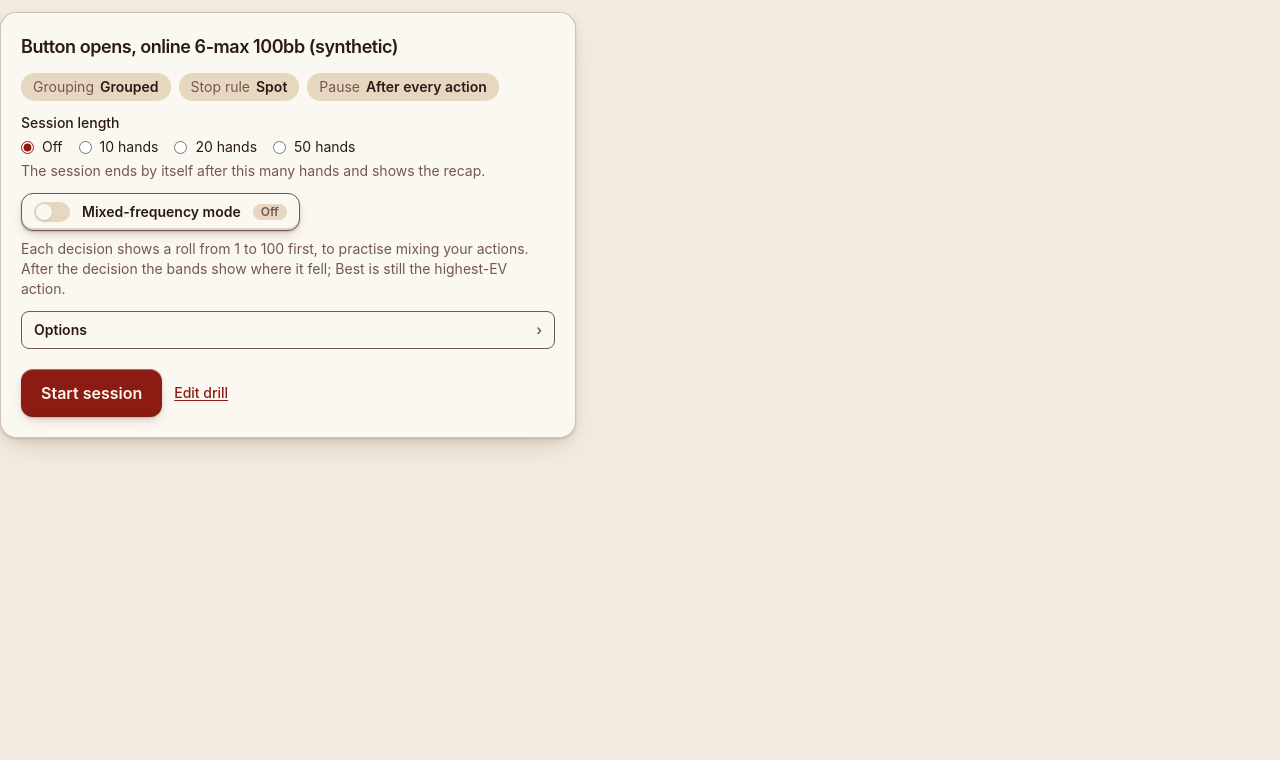
Test: R3.13 drill run start panel › R3.13 the start request carries mode drill, the drill id, settings.rng, the seed and an Idempotency-Key (O-288)
Expected: the heading "Button opens, online 6-max 100bb (synthetic)" is shown, [21,33,398,61]
Click the switch labelled "Mixed-frequency mode". click: (160, 212)
box: [21,193,300,231]
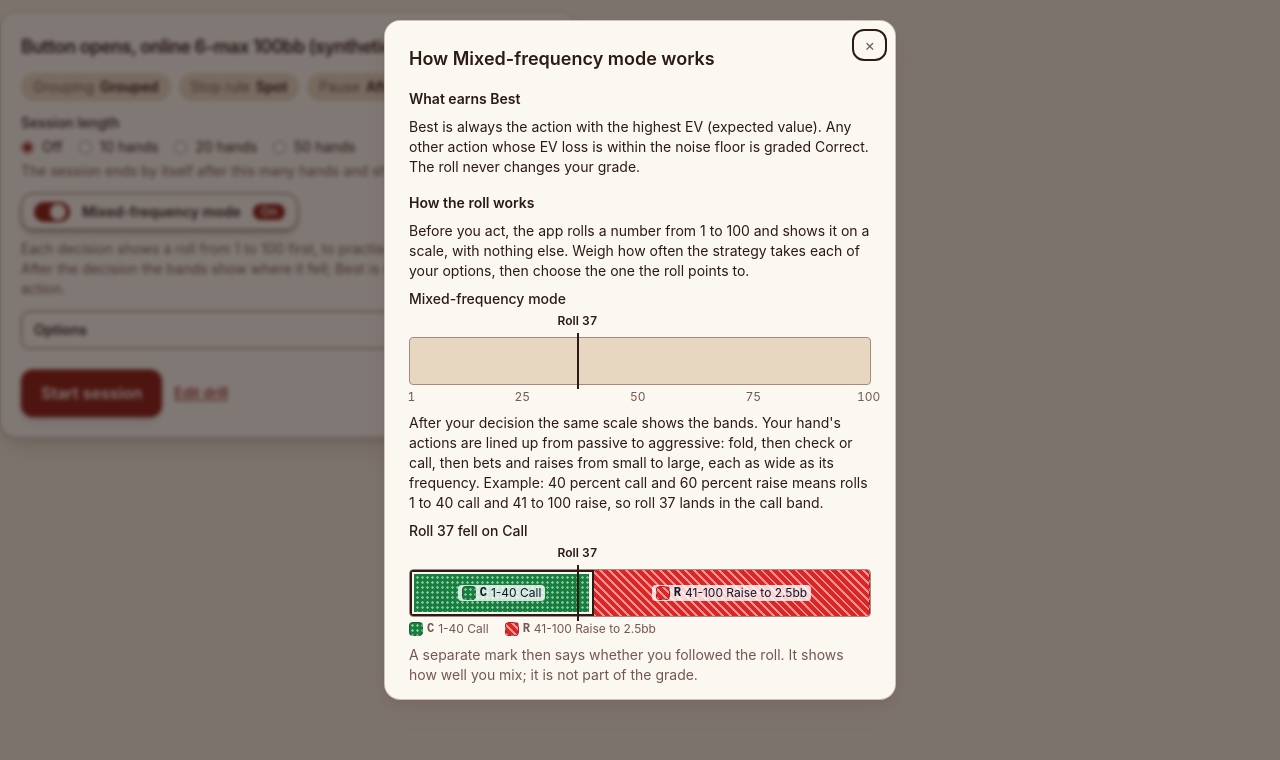
Press Escape
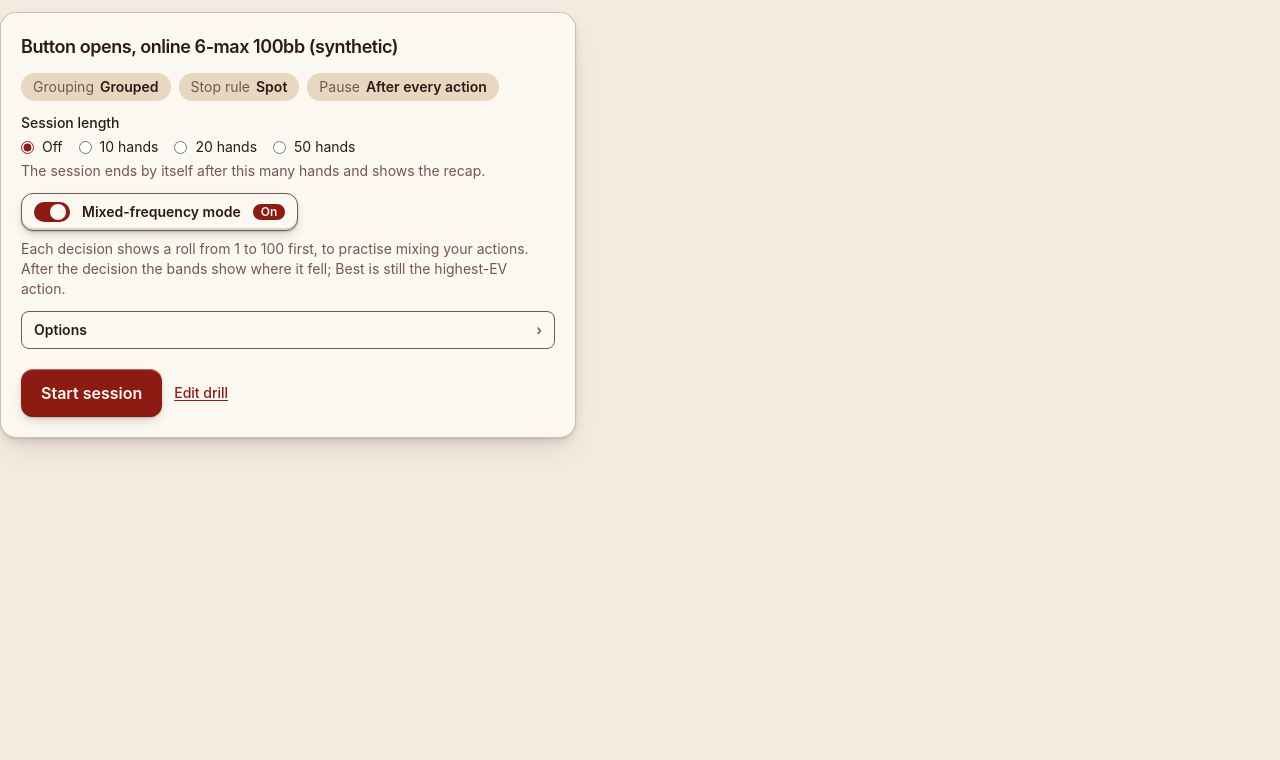
Expected: the dialog is gone
Click the button "Start session". click: (92, 393)
box: [21,369,162,417]
(page scrolled)
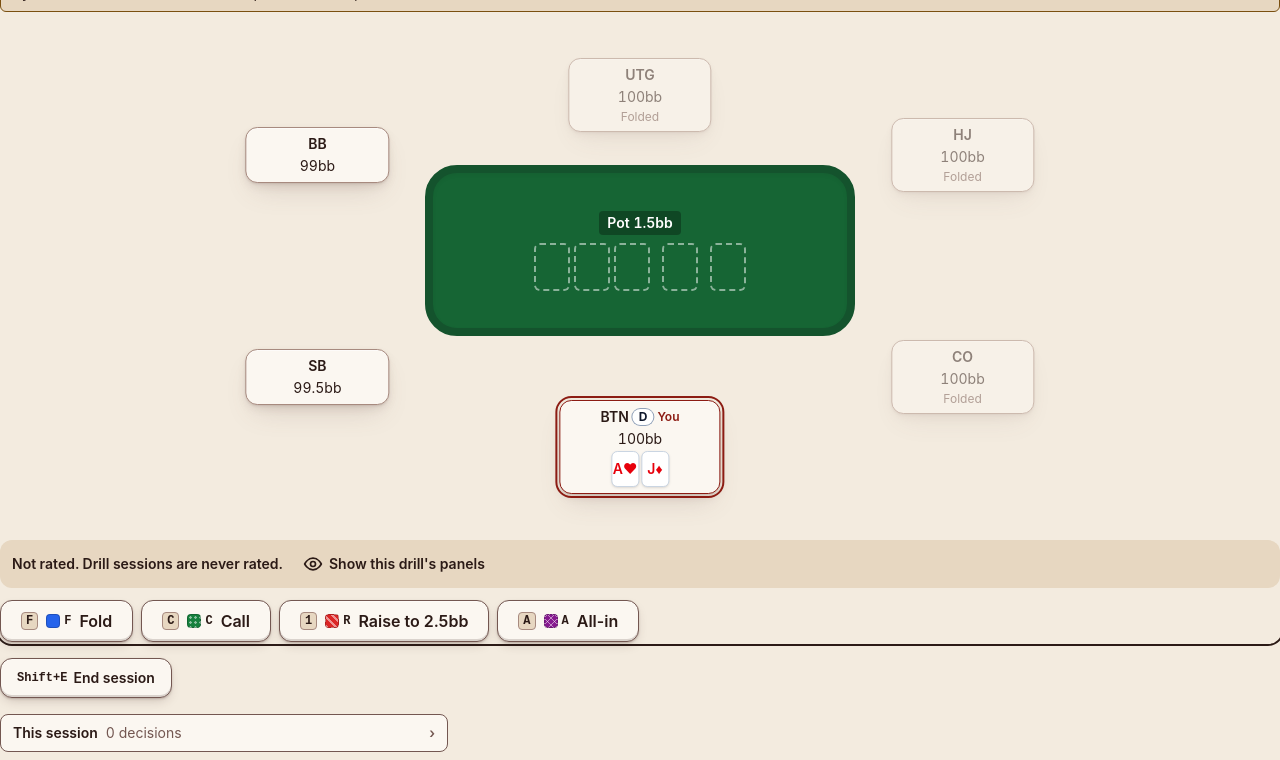
Expected: the element named "Actions" is shown, [0,600,639,642]
